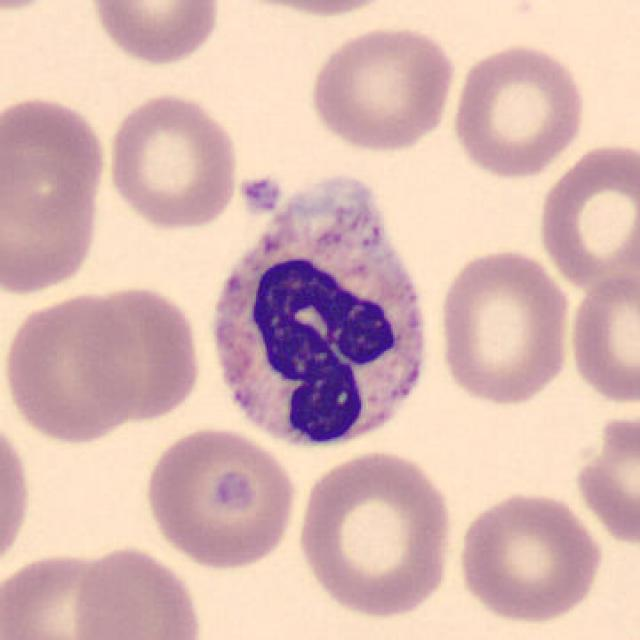Neutrophil: (197, 166, 439, 462)
Platelets: (204, 463, 264, 519), (237, 173, 284, 217)
RBC: (293, 446, 459, 621), (140, 423, 300, 571), (432, 245, 576, 409), (0, 287, 144, 446), (454, 487, 606, 626), (304, 21, 457, 155), (448, 38, 590, 182), (103, 88, 242, 233), (73, 280, 206, 427), (0, 92, 110, 243), (534, 137, 638, 291), (0, 545, 148, 640), (69, 541, 208, 640), (565, 268, 640, 407), (571, 407, 638, 550), (85, 0, 224, 67), (0, 407, 36, 582), (218, 0, 405, 19), (0, 0, 69, 14)
